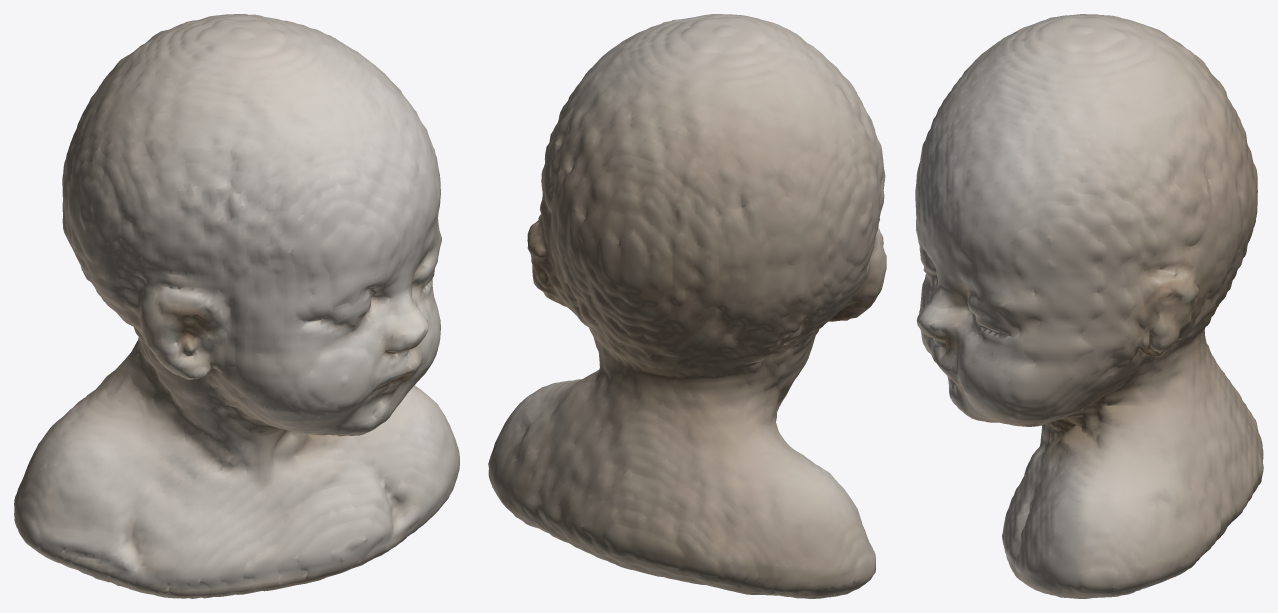
The model's file is prenatal.glb.
3 views of the same model, side by side, from view 1: azimuth 30°, elevation 25°; view 2: azimuth 150°, elevation 25°; view 3: azimuth 270°, elevation 25° (orthographic). The views are drawn at different scales.
Parts seen in each view (by area): view 1: world; view 2: world; view 3: world.
Part boxes in pixels (left/top/right/bottom): world: left=14, top=14, right=459, bottom=598; world: left=488, top=14, right=886, bottom=598; world: left=915, top=14, right=1263, bottom=598.
Size of the model in its own units: 0.7688 by 0.9944 by 0.6088.
